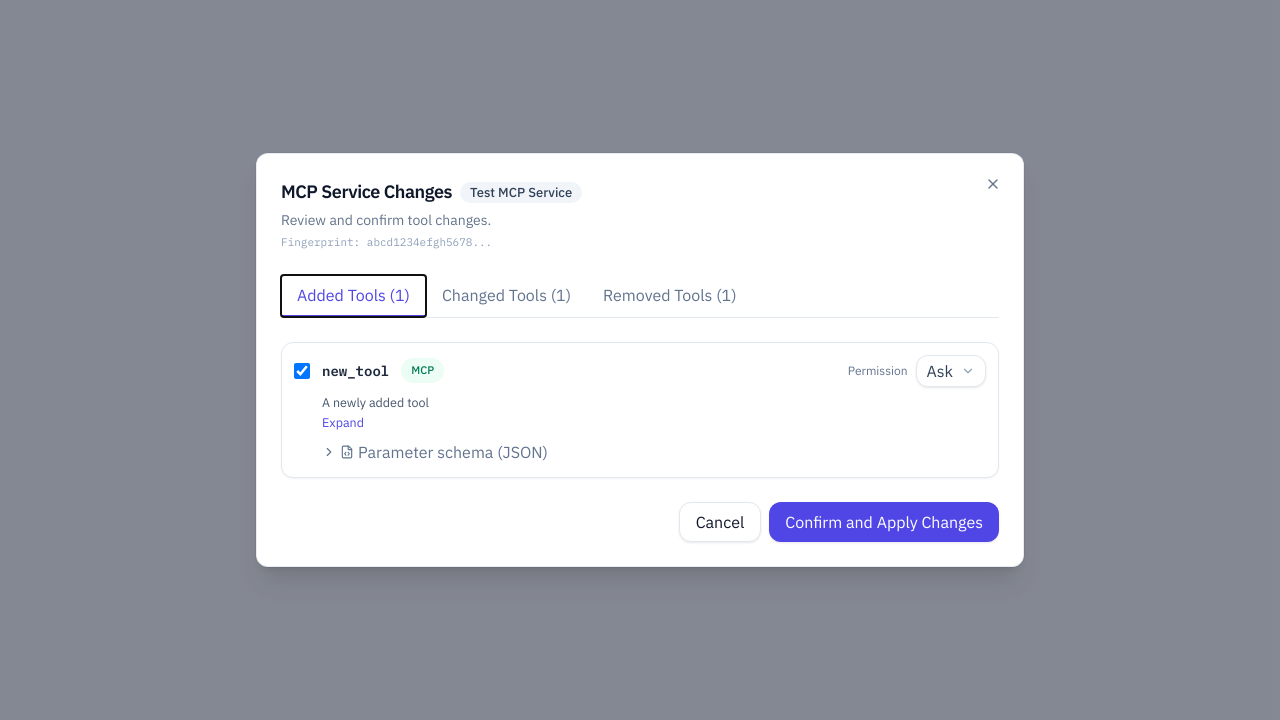
McpChangesDialog › renders tab counts and added tool details
Expected: the tab "Added Tools (1)" is shown, [281,274,426,316]
Expected: the tab "Changed Tools (1)" is shown, [426,274,587,316]
Step 1. Click the button "Expand" → (343, 423), box [322,413,364,432]
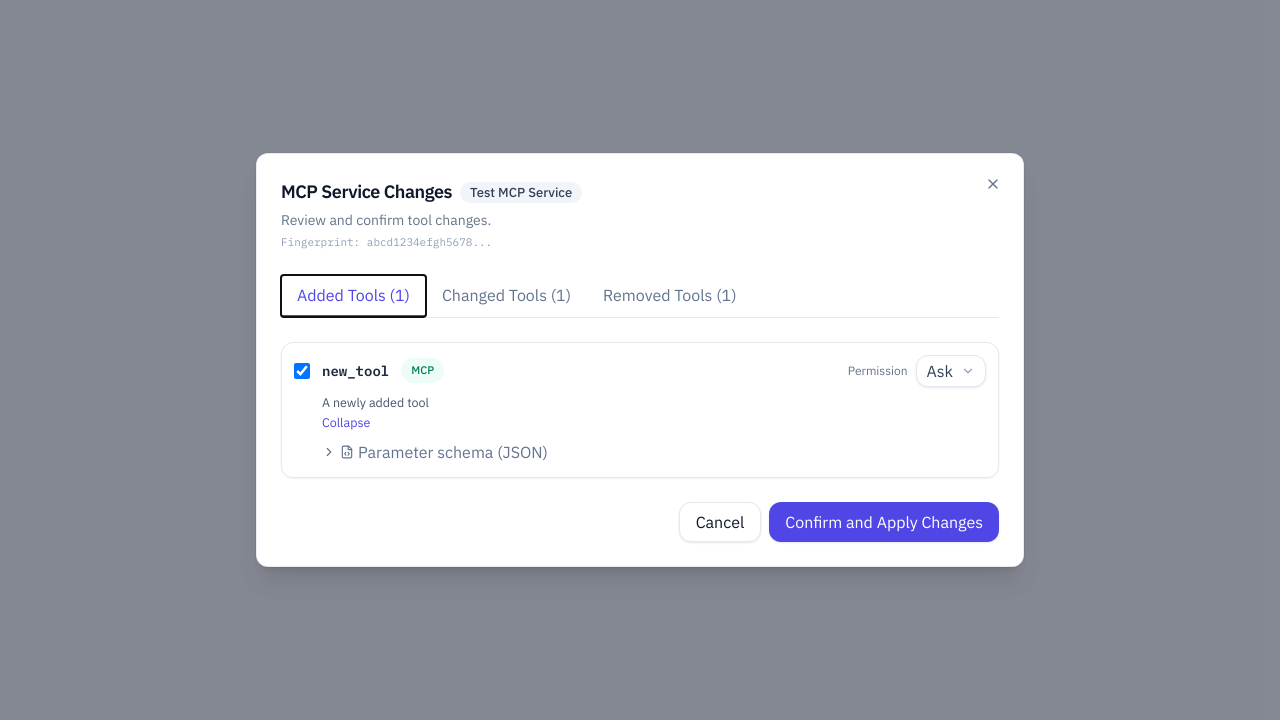
Expected: the button "Collapse" is shown
Step 2. Click the button "Collapse" → (346, 423), box [322,413,370,432]
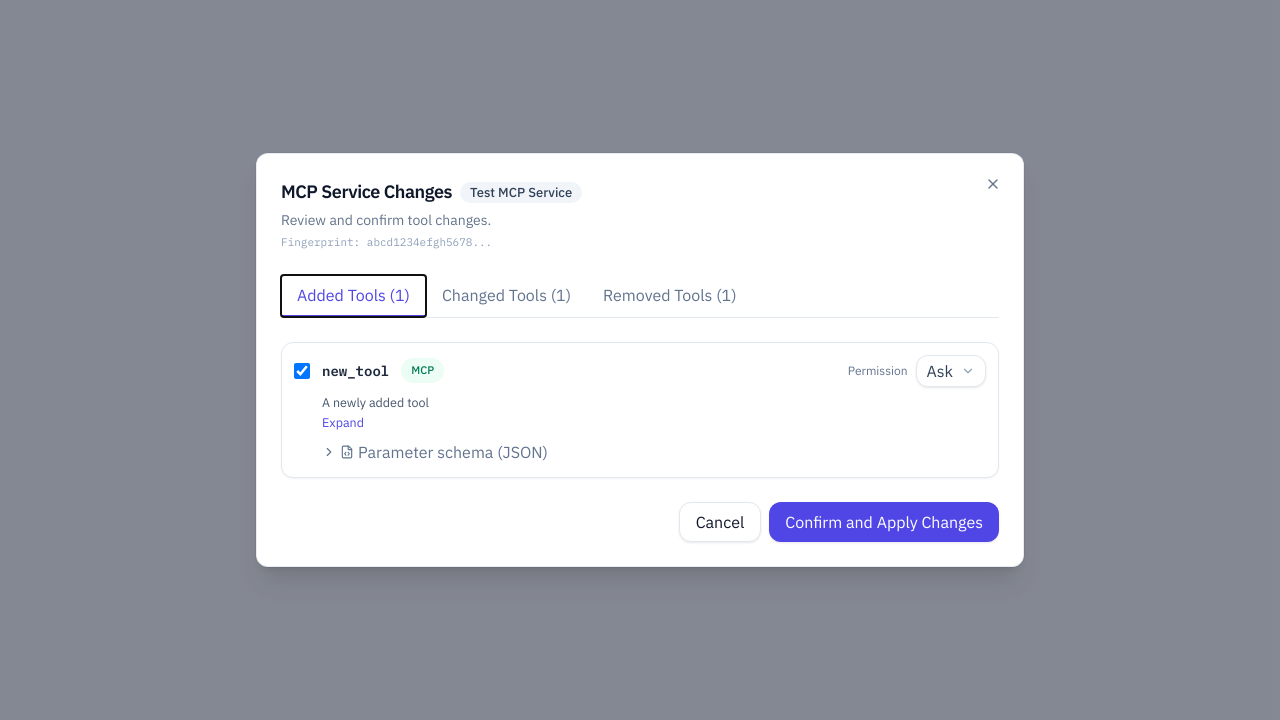
Expected: the button "Expand" is shown, [322,413,364,432]
